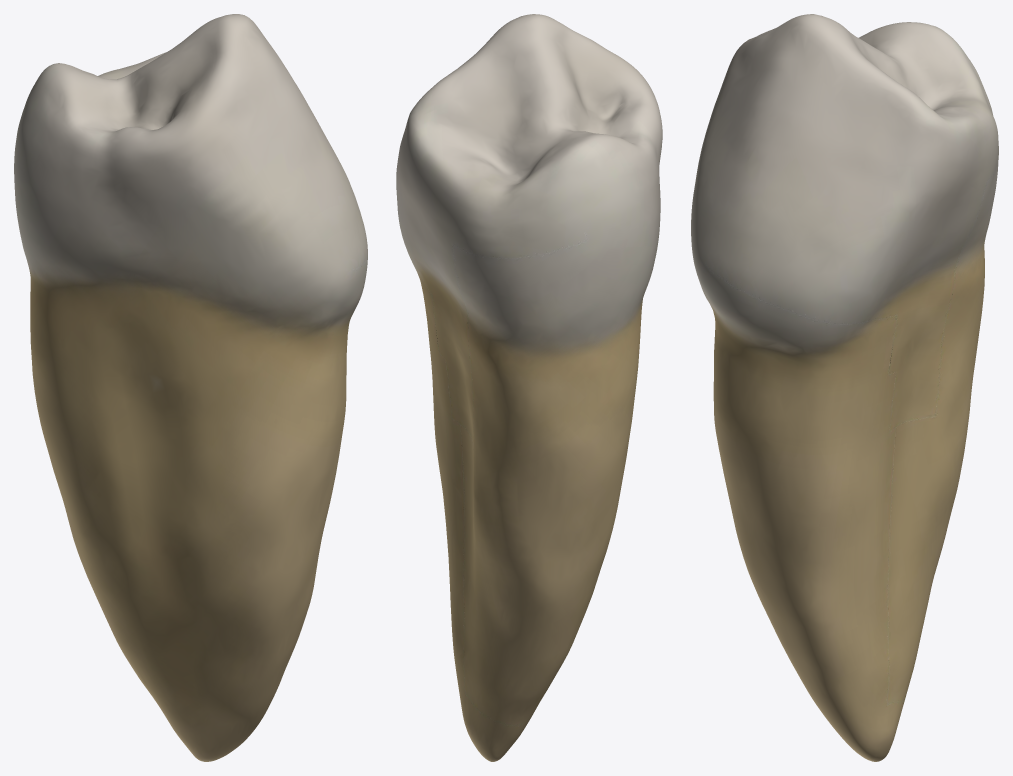
Rendered from mandibular_first_premolar.glb.
The picture shows the model from 3 angles, left to right: view 1: azimuth 30°, elevation 25°; view 2: azimuth 150°, elevation 25°; view 3: azimuth 270°, elevation 25°; orthographic projection. The views are drawn at different scales.
Visible parts, largest first — view 1: Object_2; view 2: Object_2; view 3: Object_2.
Boxes of the visible parts, box(x1,y1,x2,y2) form: Object_2: box(14, 14, 367, 761); Object_2: box(396, 14, 662, 761); Object_2: box(691, 14, 998, 761).
Bounding box in the file's own units: 0.34 × 0.8793 × 0.3319.
Materials: 1 (1 with a texture image).
